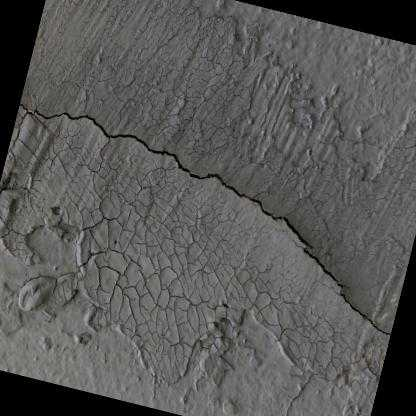crack: (19, 103, 391, 336)
